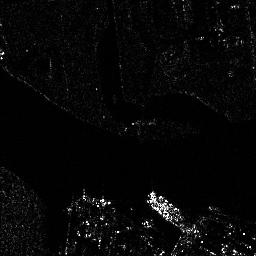ship: (146, 188, 184, 223)
